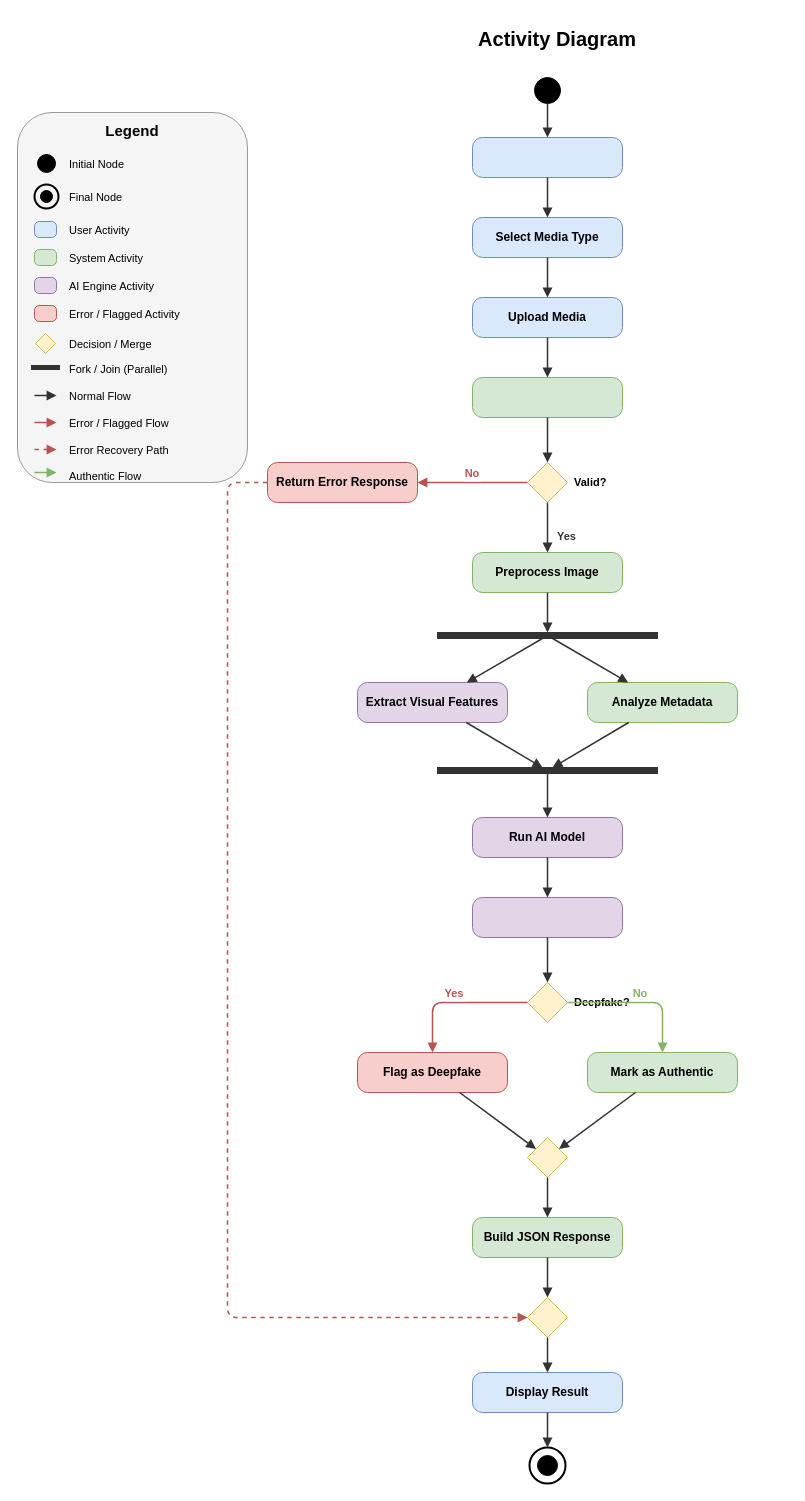
The diagram is 805 pixels wide and 1501 high, and some of its shapes have lost their labels. Here are the shapes that lost their labels. From the top down, the centre of each, then its label:
the point at 547,157: Open Web Interface
the point at 547,397: Receive & Validate File
the point at 547,917: Generate Confidence Score
